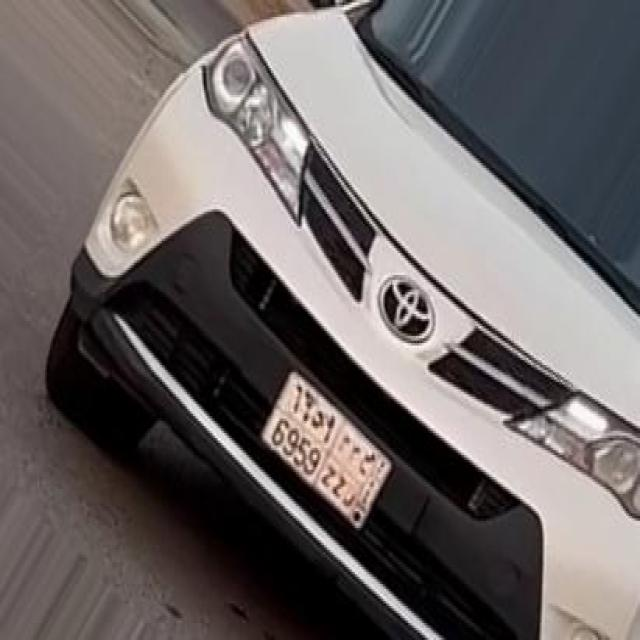Car-plate: (247, 324, 407, 548)
